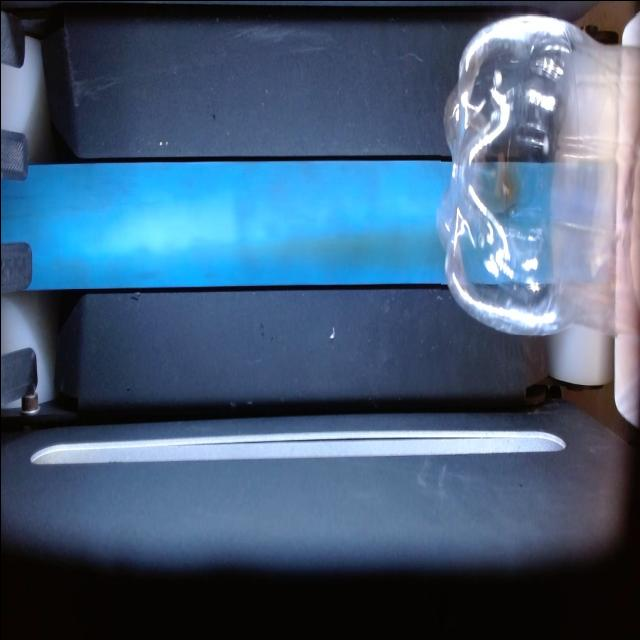bottle: (440, 14, 640, 334)
